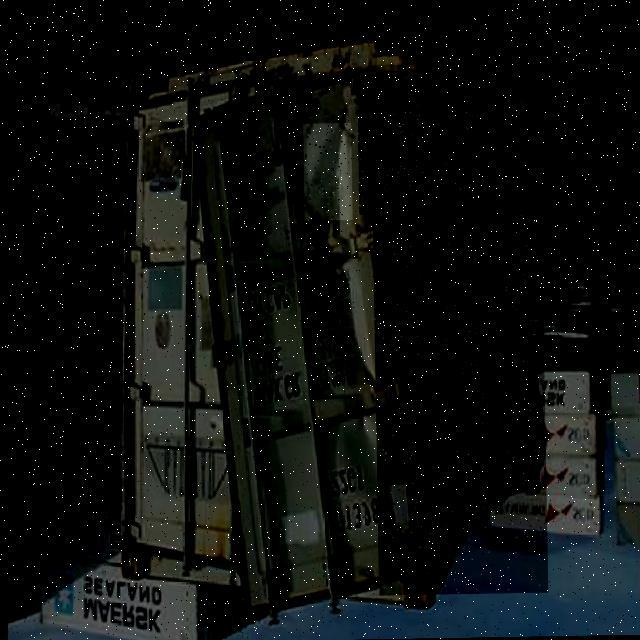Deframe: (370, 68, 548, 595)
Dent: (303, 123, 353, 221)
Hole: (357, 76, 415, 215), (305, 252, 322, 276)
